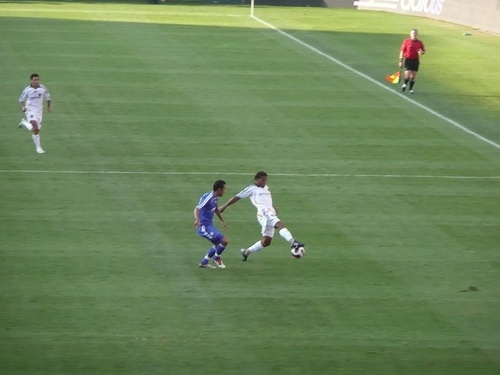head: (251, 170, 270, 189), (27, 72, 41, 90), (406, 28, 421, 44), (213, 180, 227, 197)
person: (214, 168, 305, 261), (193, 179, 229, 268), (17, 71, 53, 156), (398, 28, 424, 93)
